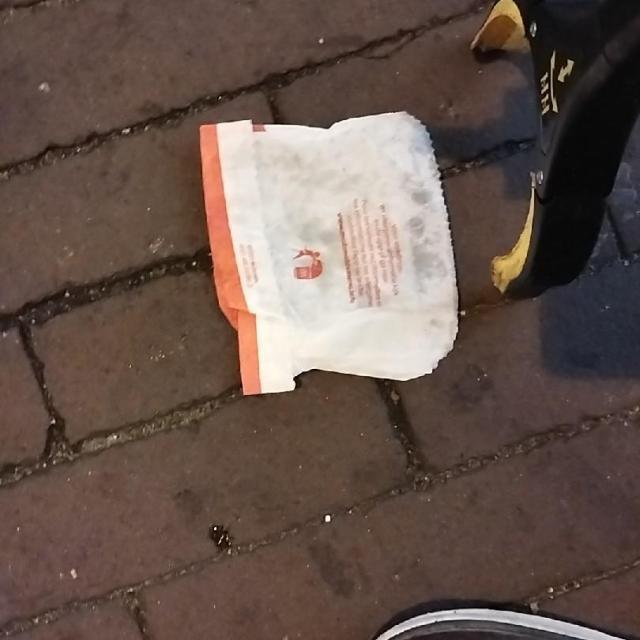Paper: (195, 106, 460, 397)
